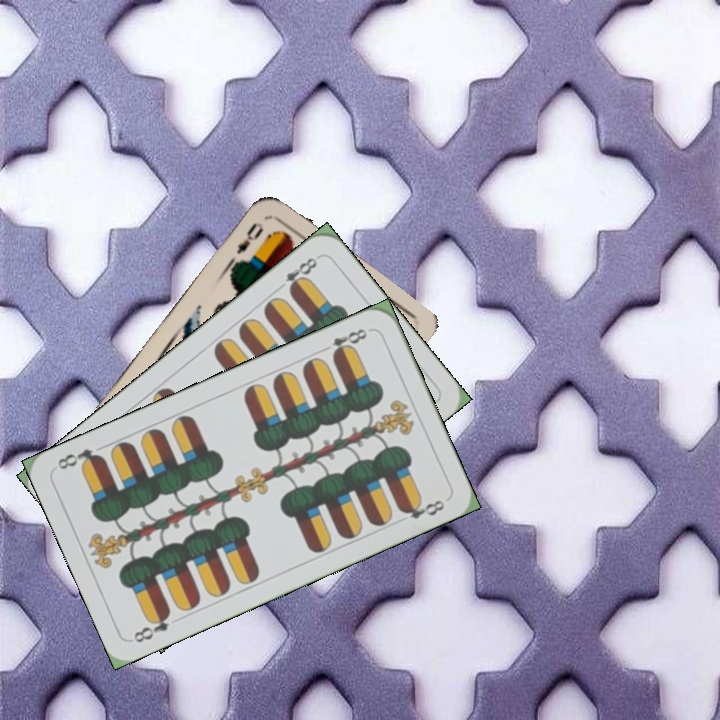E8: (272, 252, 322, 296), (317, 324, 374, 360), (129, 607, 173, 646)
EO: (232, 218, 266, 257)
